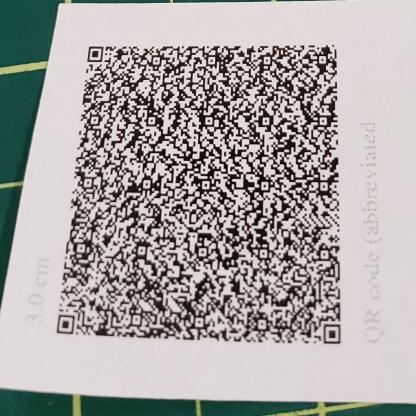qr: (53, 41, 350, 347)
